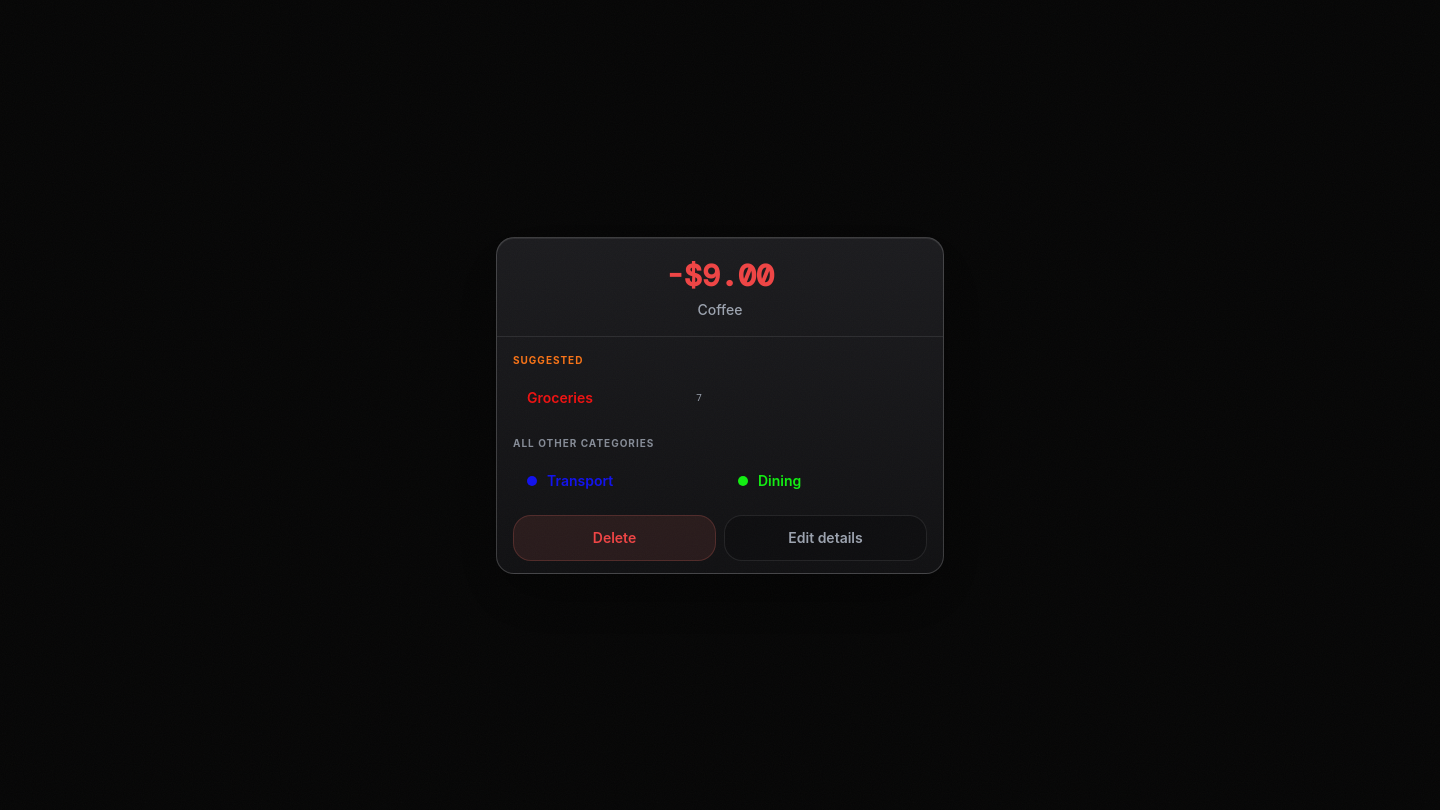
Test: final item › shows a success state instead of a fourth empty sheet
The width and height of the screenshot is (1440, 810).
What coordinates should you click on to do the following:
click the button "Groceries 7"
I would click on:
 (614, 398)
Its box is [513,376,716,420].
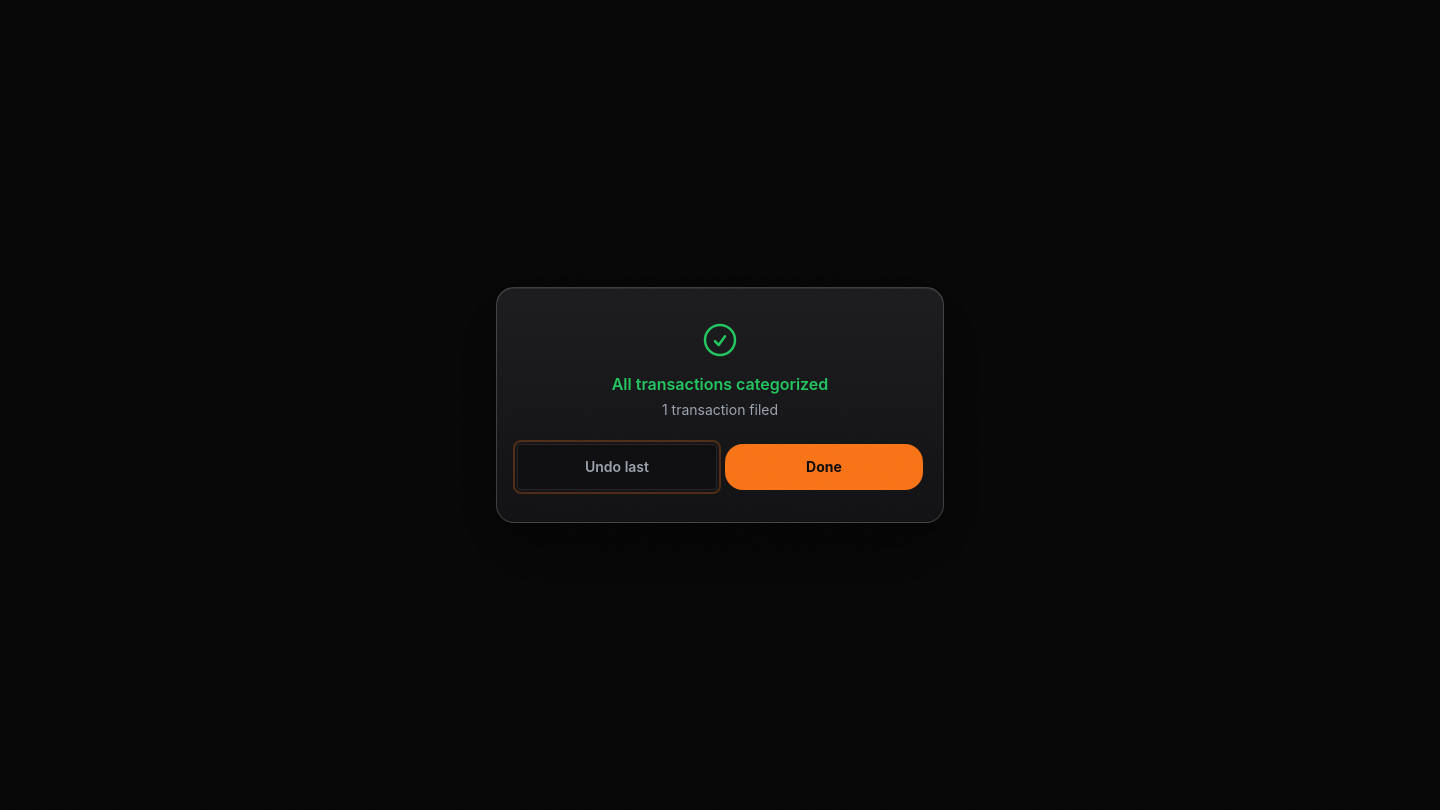
Check: the text "All transactions categorized" is shown, box [612,374,828,394]
Check: the text "1 transaction filed" is shown, box [662,401,778,418]
